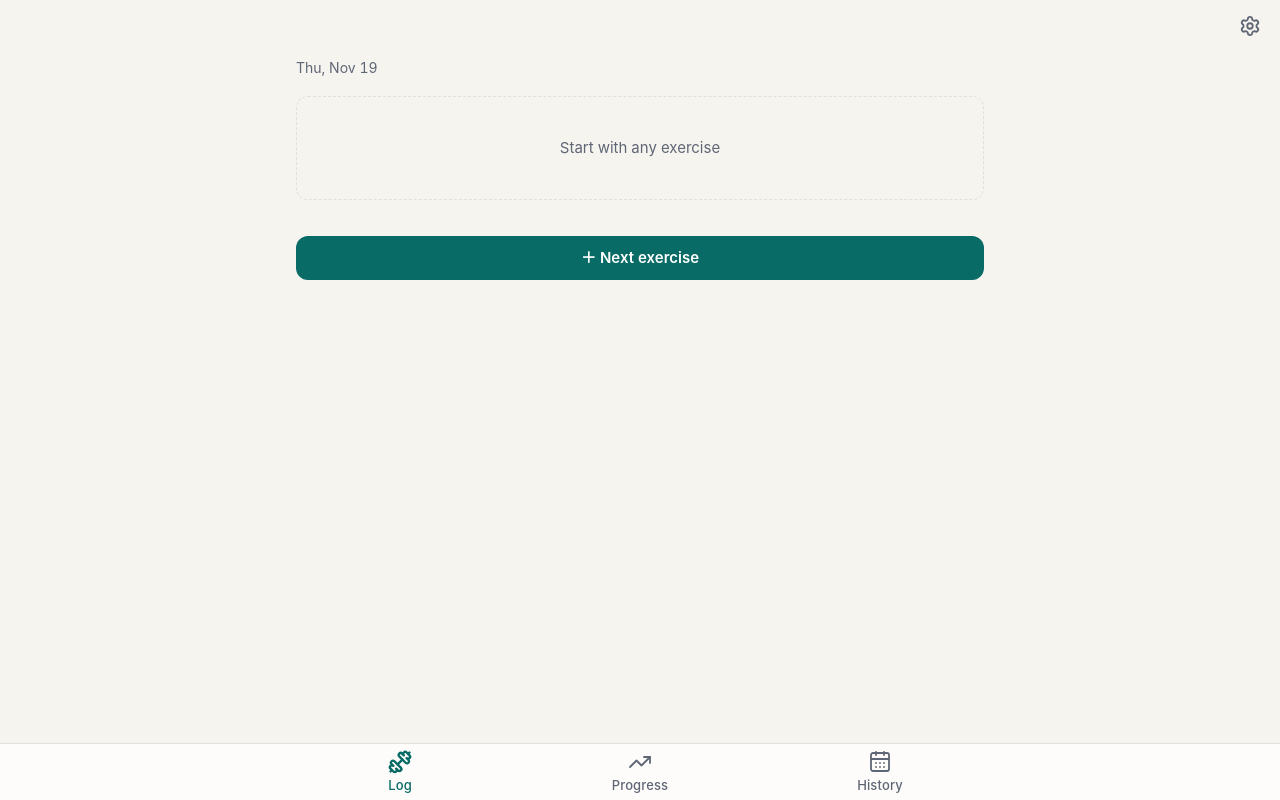
settings sheet › opens over an inert page; Done closes it and returns focus to the gear
Click the button named "Settings" at (1250, 26), box [1228,4,1272,48]
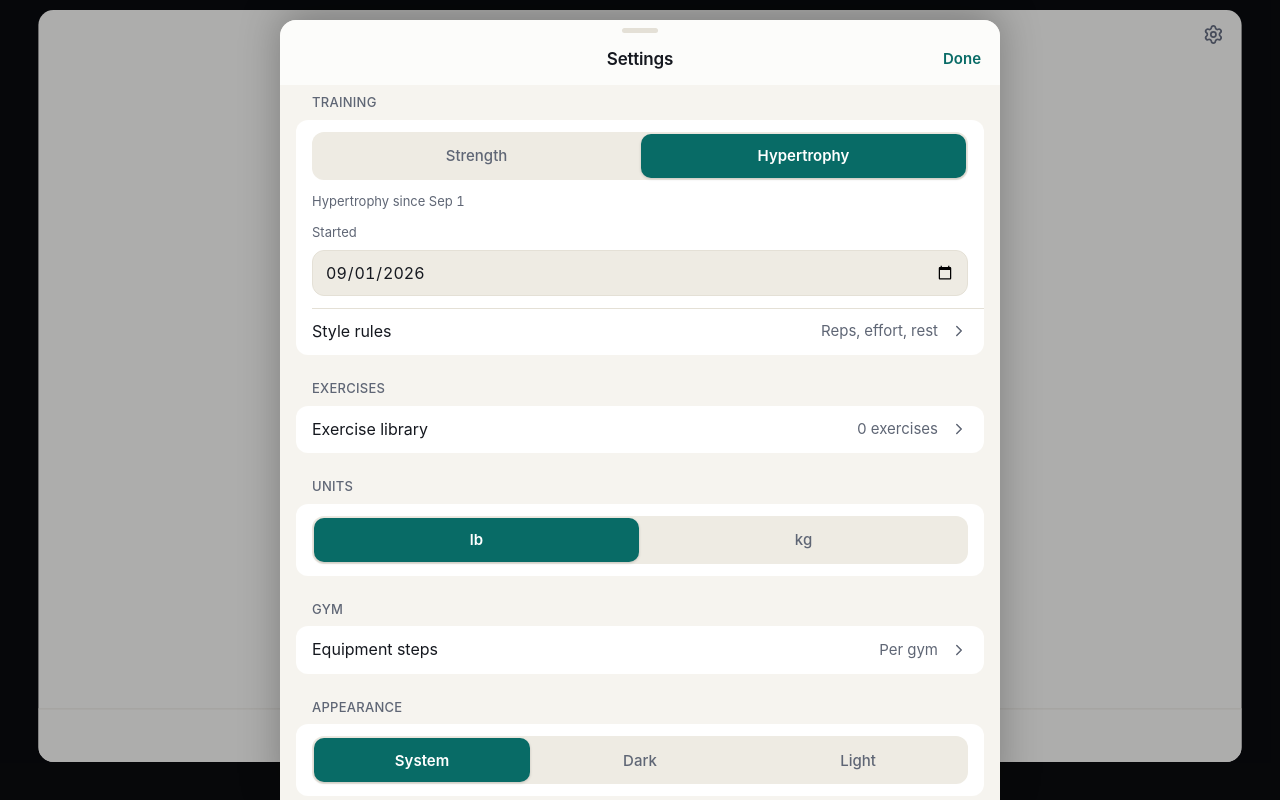
Now the dialog "Settings" is shown, box [280,20,1000,799]
Click the button "Done" at (962, 59), box [932,37,992,81]
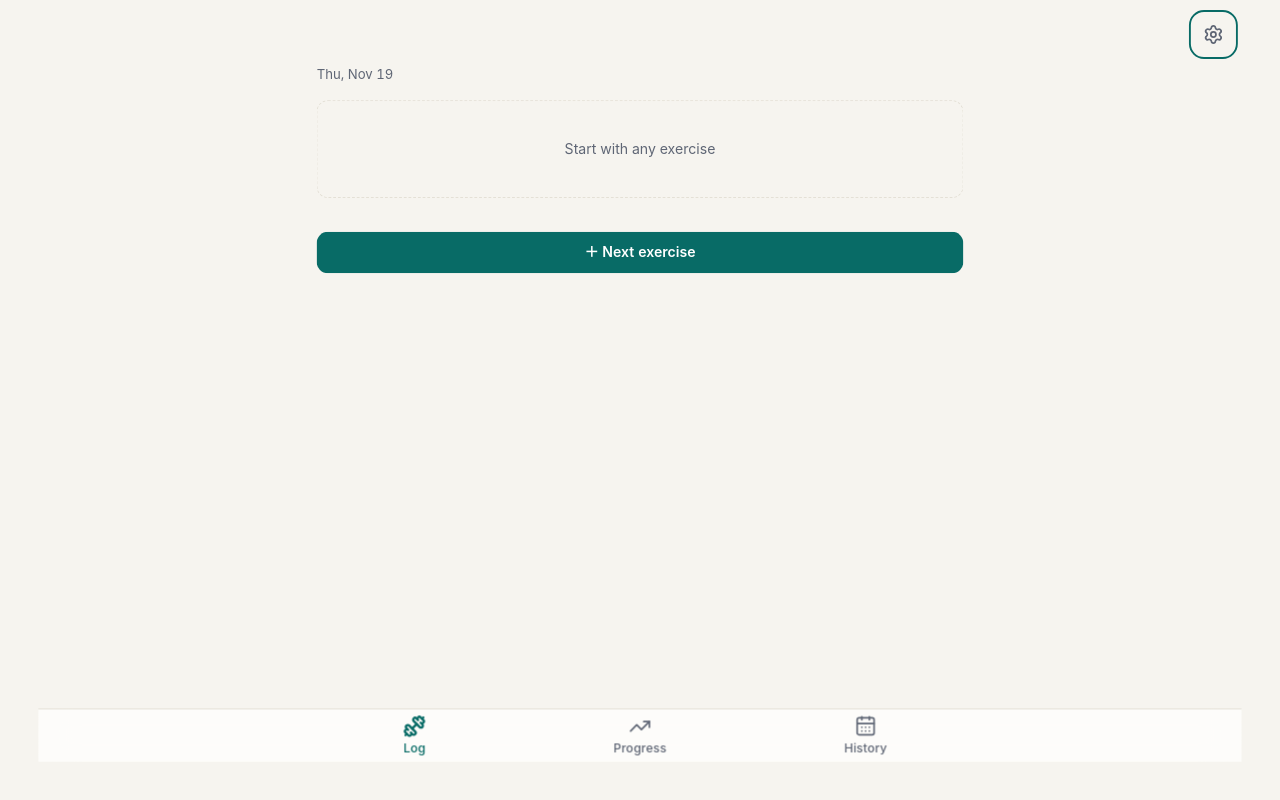
Now the dialog is gone
